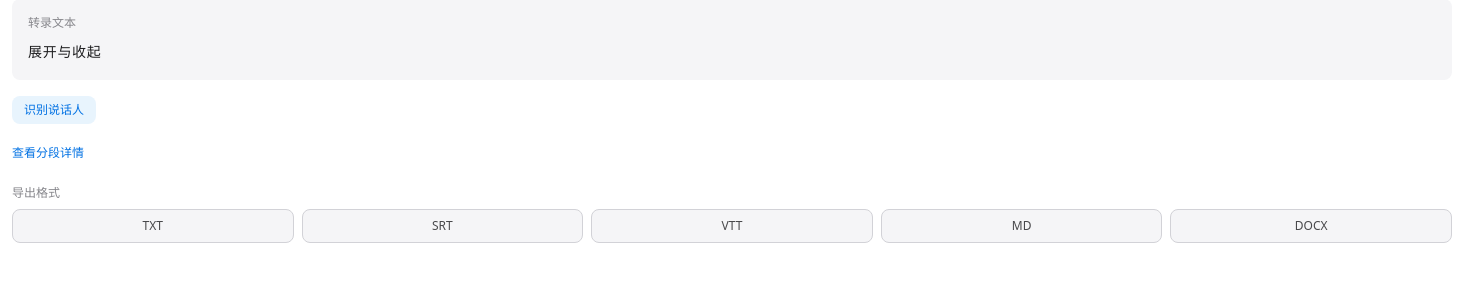
Test: TranscriptionResult — branch push › collapses the segment timeline on a second toggle
The image size is (1464, 301).
Click the button "查看分段详情": click(48, 153) [12,145,84,161]
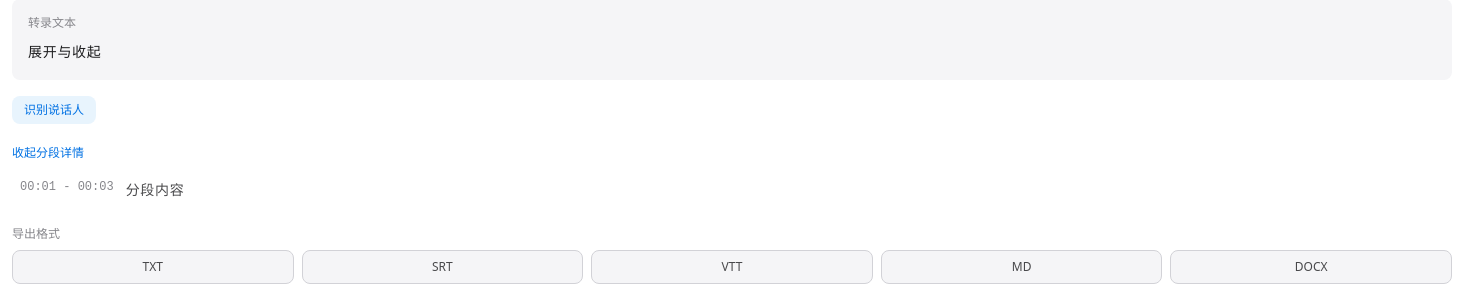
Expected: the text "分段内容" is shown, [126,177,184,202]
Click the button "收起分段详情": click(48, 153) [12,145,84,161]
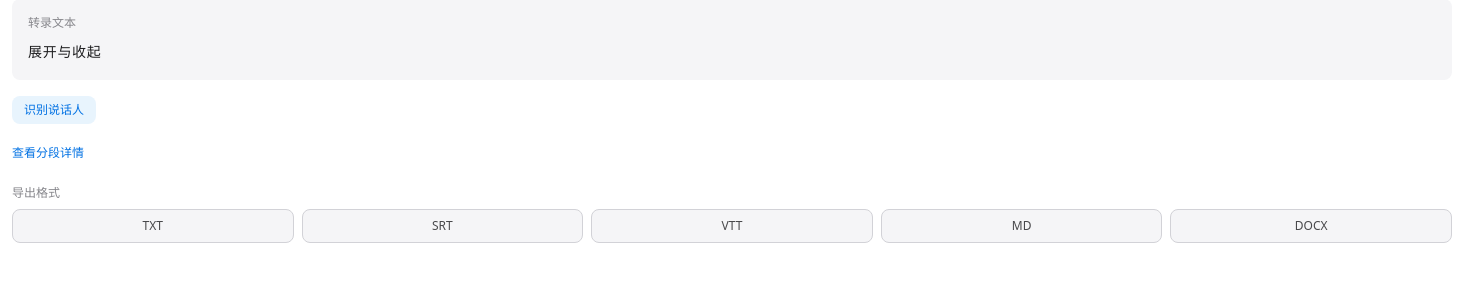
Expected: the text "分段内容" is gone
